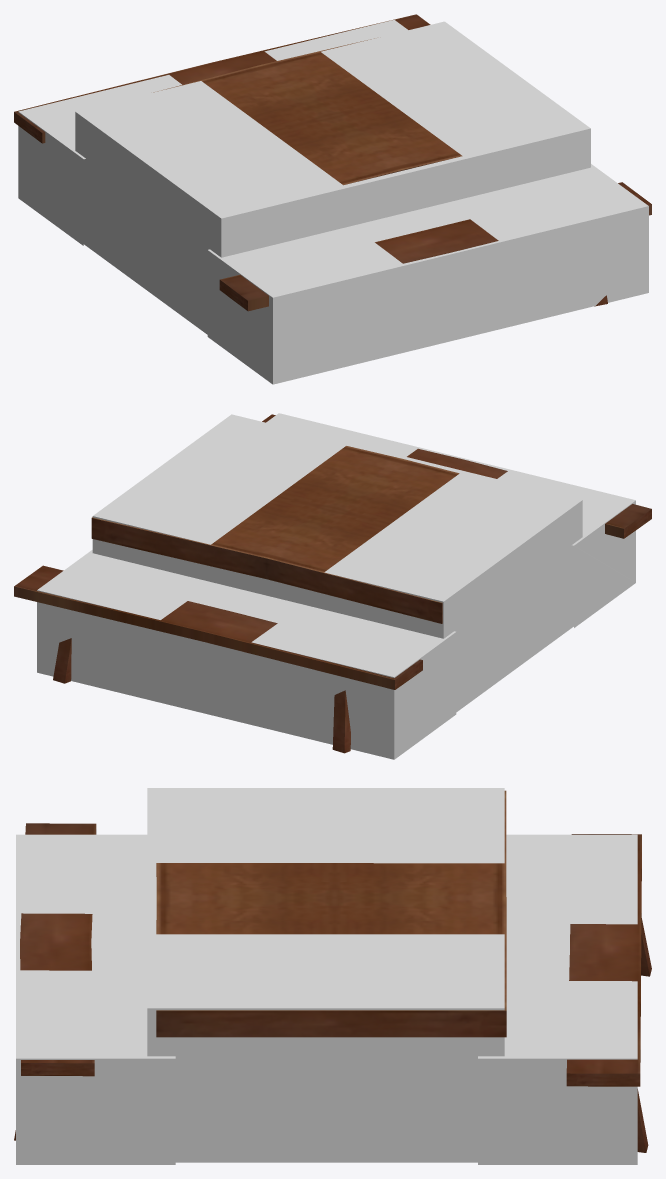
The model's file is YHJ_zhuozi.FBX.
3 renders of one model, top to bottom at view 1: azimuth 30°, elevation 25°; view 2: azimuth 150°, elevation 25°; view 3: azimuth 270°, elevation 25°, orthographic. The views are drawn at different scales.
Visible parts, largest first — view 1: YHJ_zhuozi-col, YHJ_zhuozi; view 2: YHJ_zhuozi-col, YHJ_zhuozi; view 3: YHJ_zhuozi-col, YHJ_zhuozi.
Part boxes in pixels (x1,y1,x2,y2): YHJ_zhuozi-col: [18, 20, 648, 384]; YHJ_zhuozi: [14, 14, 651, 311]; YHJ_zhuozi-col: [37, 413, 635, 759]; YHJ_zhuozi: [14, 414, 651, 753]; YHJ_zhuozi-col: [16, 788, 637, 1164]; YHJ_zhuozi: [14, 790, 651, 1152].
Size of the model in its own units: 3.98 by 1.15 by 4.28.
